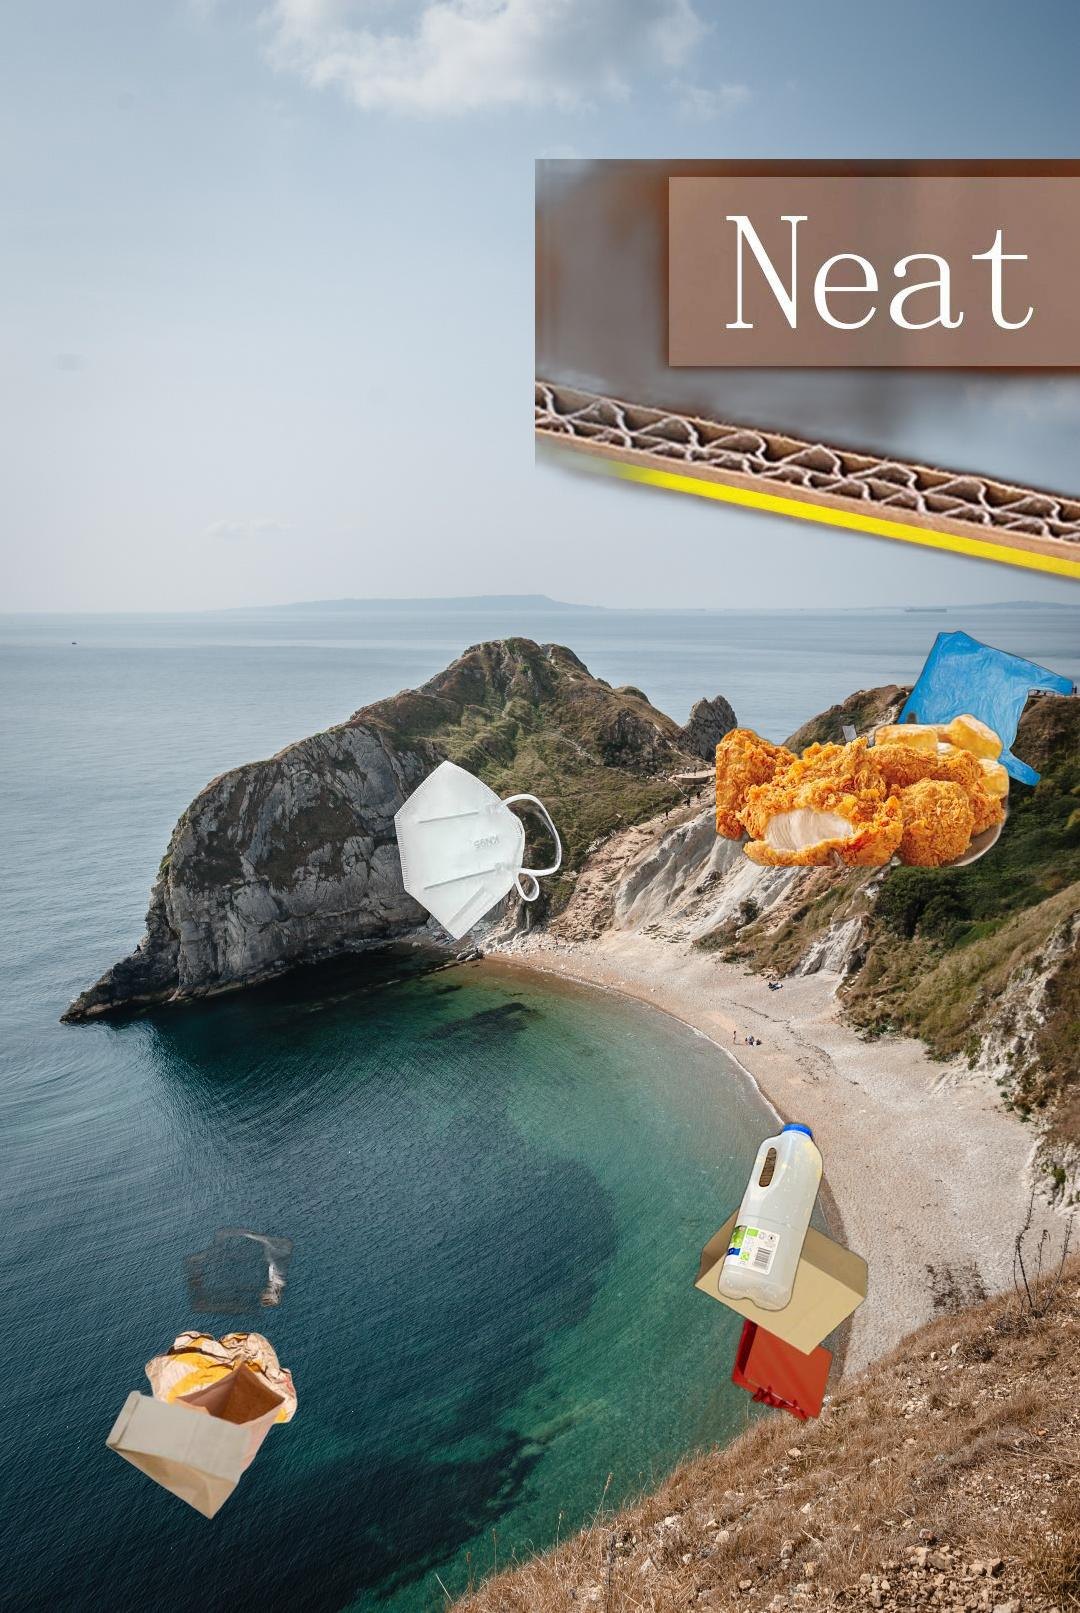biological: (716, 711, 1016, 866)
paper-bag: (691, 1181, 870, 1426), (102, 1329, 301, 1521)
plastic-bag: (840, 628, 1076, 862)
plastic-bottles: (713, 1117, 828, 1317)
trash: (391, 757, 565, 943)
trashbox-cardboard: (535, 159, 1080, 1613), (105, 1220, 405, 1421)
